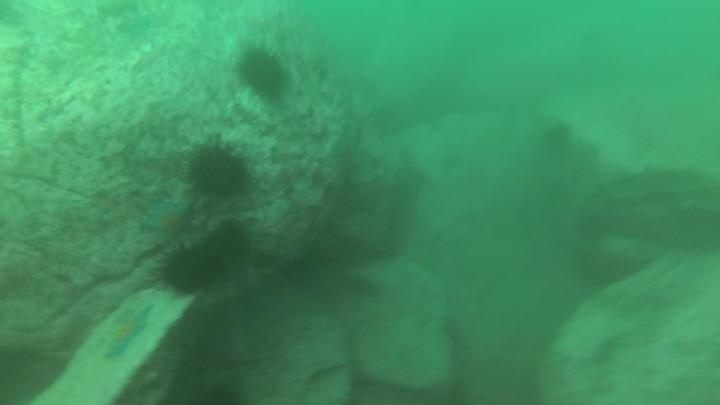echinus: (183, 136, 255, 203), (155, 242, 221, 296), (234, 42, 290, 101), (200, 219, 254, 276), (539, 119, 575, 157)
starfish: (98, 304, 155, 363), (139, 195, 198, 249), (113, 10, 155, 40)
